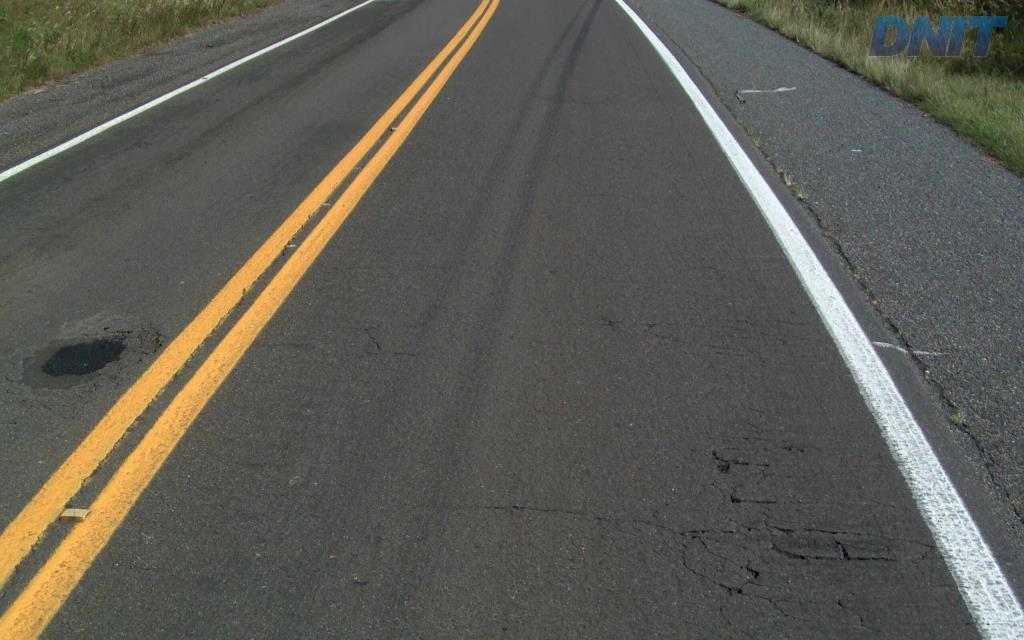crack: (761, 511, 897, 565)
